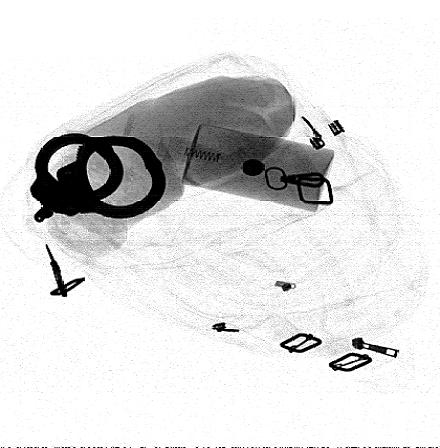HandCuffs: (29, 133, 167, 224)
